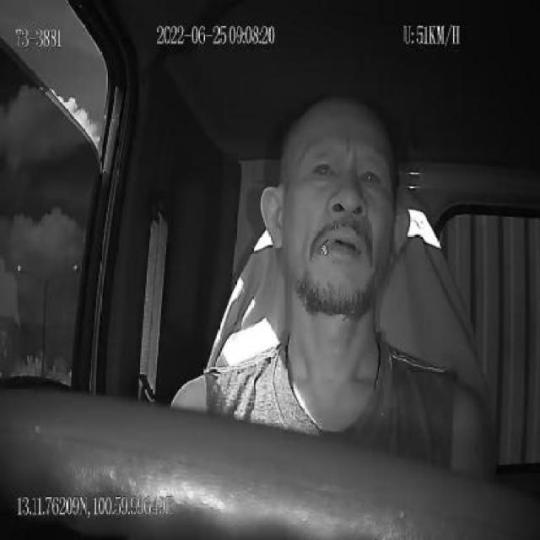smoking: (319, 239, 337, 258)
